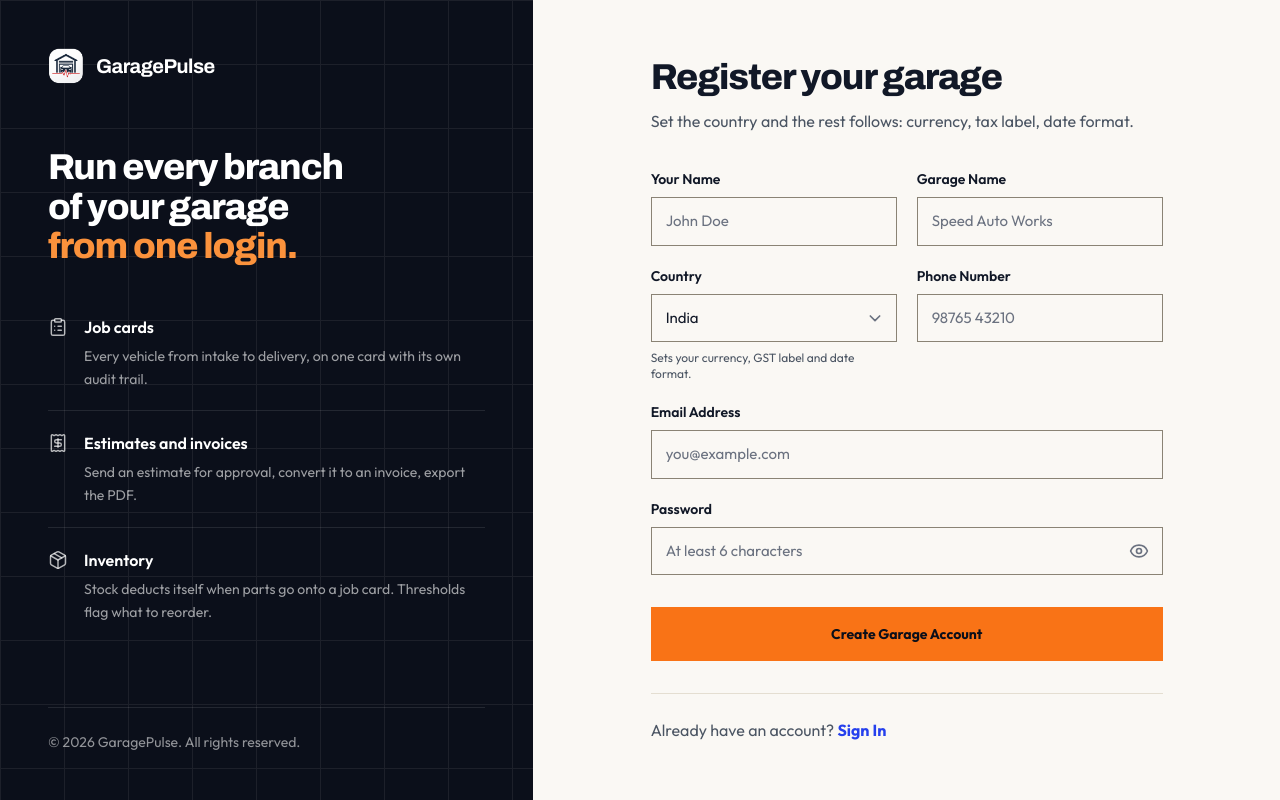
Scenario: registration country picker › shows the selected country's phone example, not India's
This screenshot has width=1280, height=800.
Expected: the field with placeholder "98765 43210" is shown, [917,294,1163,342]
Select "United Kingdom" in the dropdown labelled "Country" at (774, 318), box [651,294,897,342]
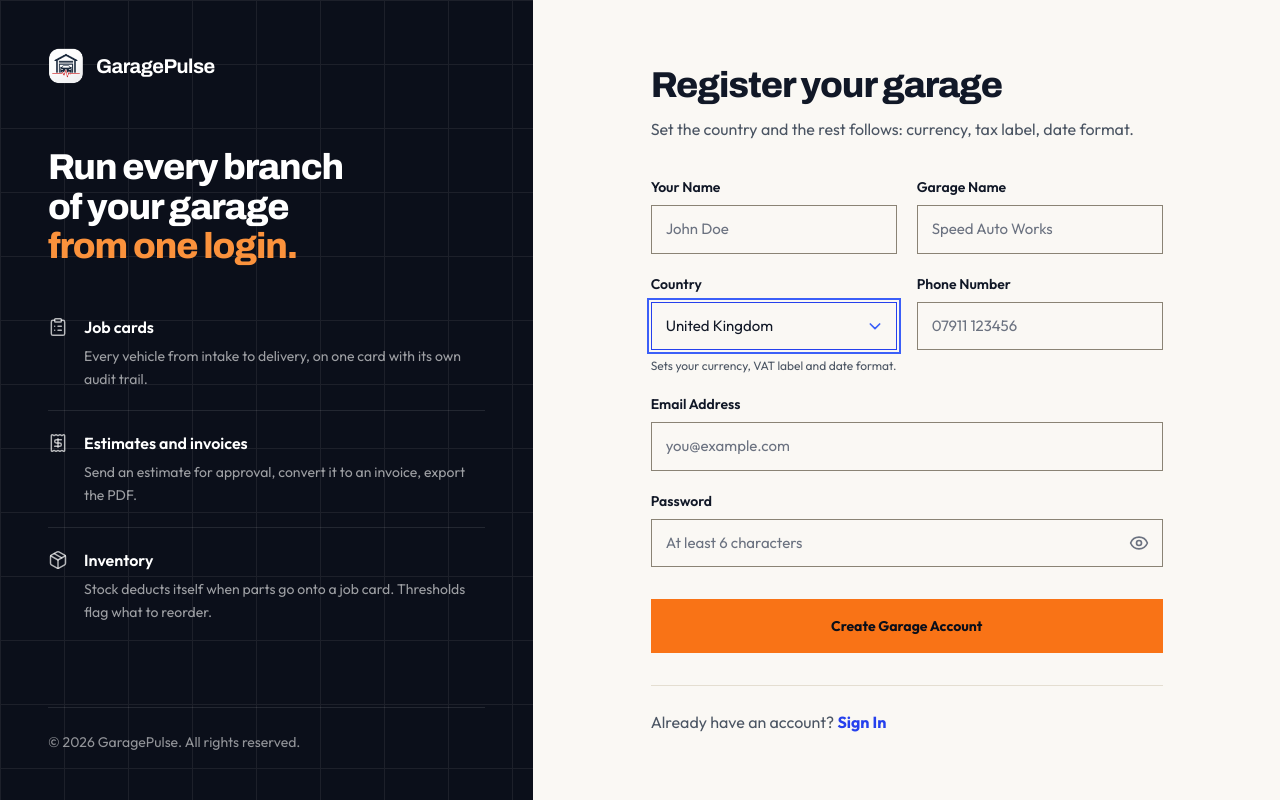
Expected: the field with placeholder "07911 123456" is shown, [917,302,1163,350]
